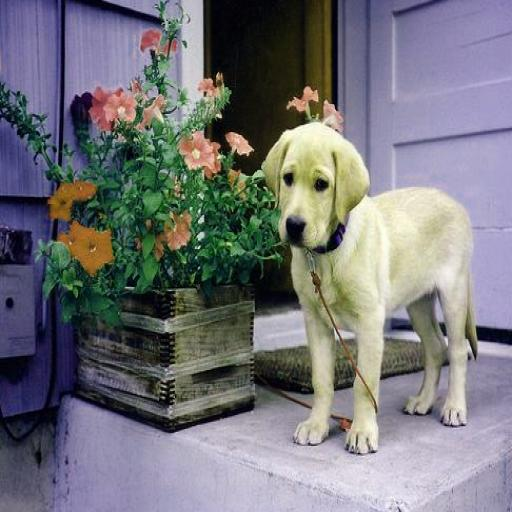dog_face: (263, 126, 370, 250)
